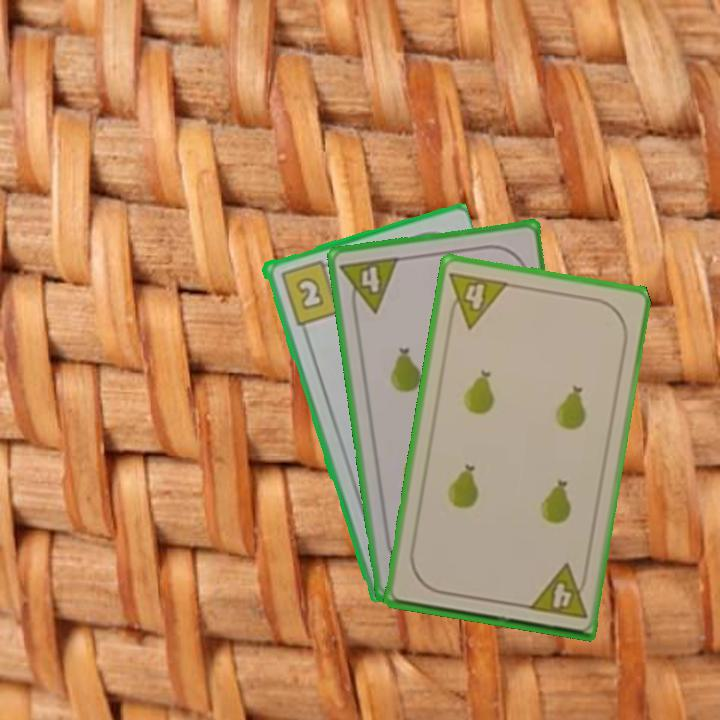2b: (276, 256, 342, 328)
4p: (443, 268, 511, 331), (337, 253, 402, 318), (524, 561, 591, 622)
